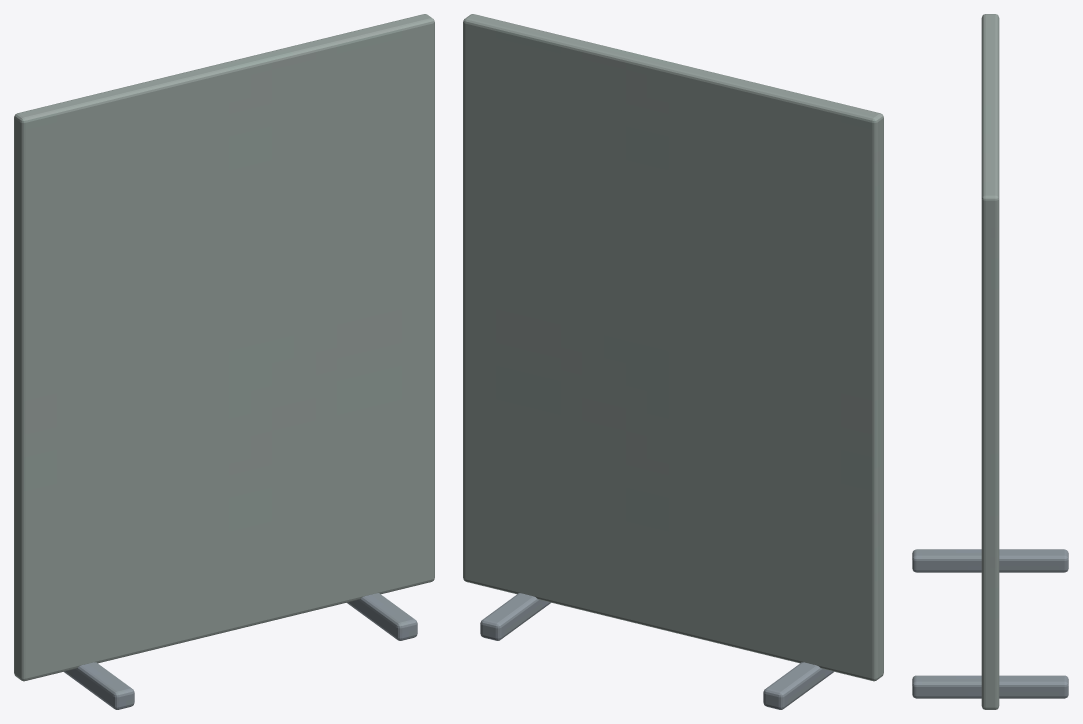
Rendered from football-acoustic-screen.glb.
The picture shows the model from 3 angles, left to right: view 1: azimuth 30°, elevation 25°; view 2: azimuth 150°, elevation 25°; view 3: azimuth 270°, elevation 25°; orthographic projection. The views are drawn at different scales.
Visible parts, largest first — view 1: Acoustic upholstered divider, Freestanding screen foot.001, Freestanding screen foot; view 2: Acoustic upholstered divider, Freestanding screen foot.001, Freestanding screen foot; view 3: Acoustic upholstered divider, Freestanding screen foot, Freestanding screen foot.001.
Part boxes in pixels (left/top/right/bottom): Acoustic upholstered divider: left=14, top=14, right=434, bottom=681; Freestanding screen foot.001: left=347, top=593, right=417, bottom=640; Freestanding screen foot: left=64, top=662, right=134, bottom=709; Acoustic upholstered divider: left=463, top=14, right=883, bottom=681; Freestanding screen foot.001: left=480, top=593, right=550, bottom=640; Freestanding screen foot: left=763, top=662, right=833, bottom=709; Acoustic upholstered divider: left=981, top=14, right=999, bottom=709; Freestanding screen foot: left=912, top=549, right=1068, bottom=572; Freestanding screen foot.001: left=912, top=675, right=1068, bottom=698.
Bounding box in the file's own units: 1.2 × 1.6 × 0.43.
2 materials, 2 textured.
